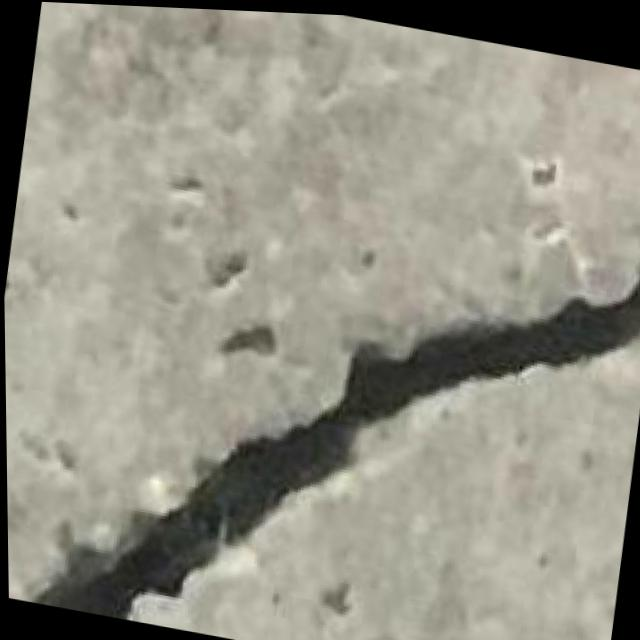Crack: (10, 119, 640, 640)
